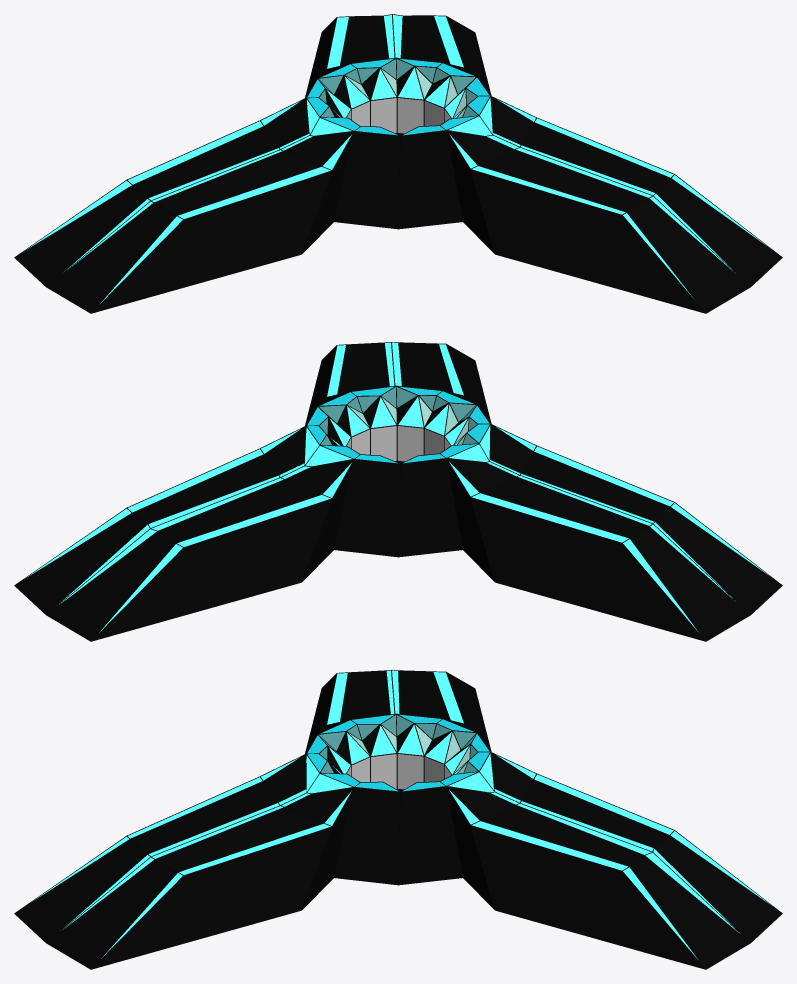
File: tron2.fbx
3 views of the same model, one above another, from view 1: azimuth 30°, elevation 25°; view 2: azimuth 150°, elevation 25°; view 3: azimuth 270°, elevation 25° (orthographic).
Visible parts, largest first — view 1: Gear, Wireframe; view 2: Gear, Wireframe; view 3: Gear, Wireframe.
Part boxes in pixels (x1,y1,x2,y2): Gear: [15, 15, 781, 312]; Wireframe: [14, 14, 782, 313]; Gear: [15, 342, 781, 640]; Wireframe: [14, 342, 782, 641]; Gear: [15, 670, 781, 968]; Wireframe: [14, 670, 782, 969].
Size of the model in its own units: 1049 by 180 by 1198.
